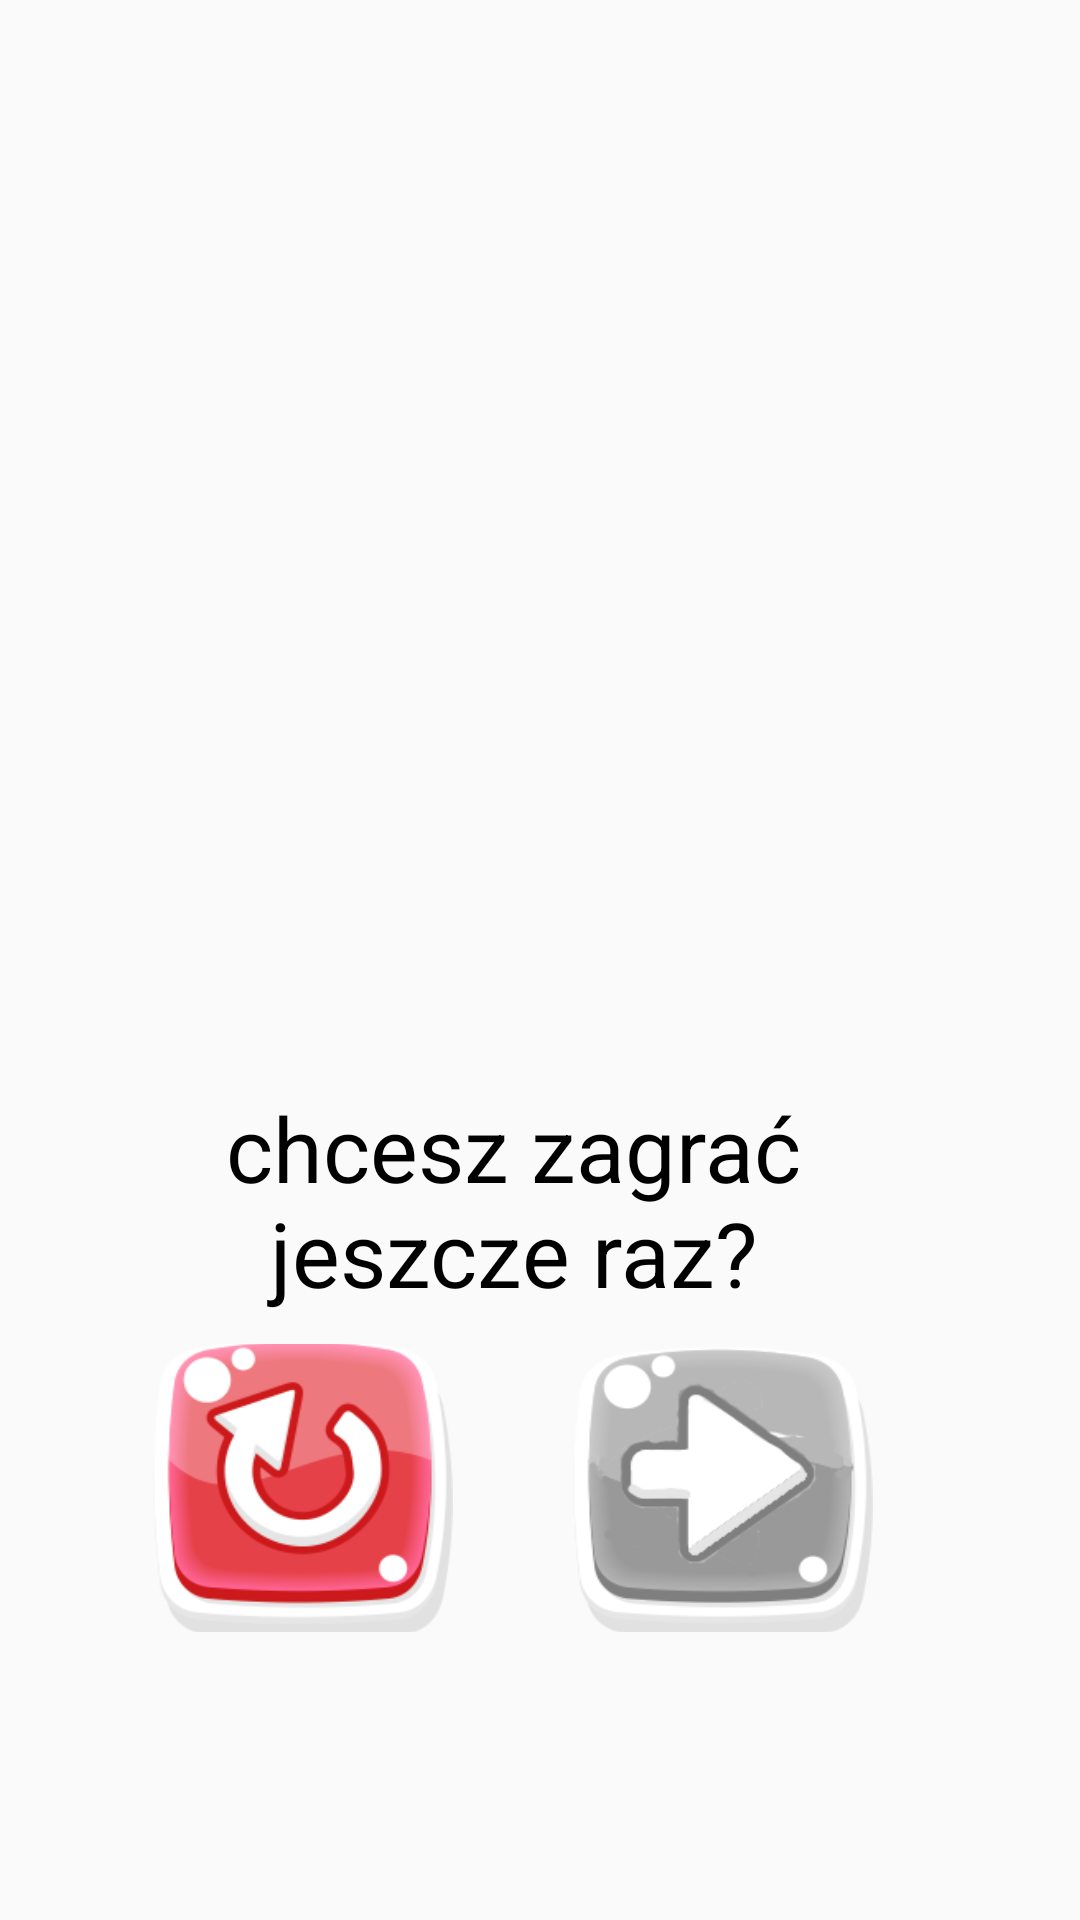

Where to tap for icons on this 1080 x 1920 app screen, as (x=x, y=y):
next: (x=729, y=1491)
